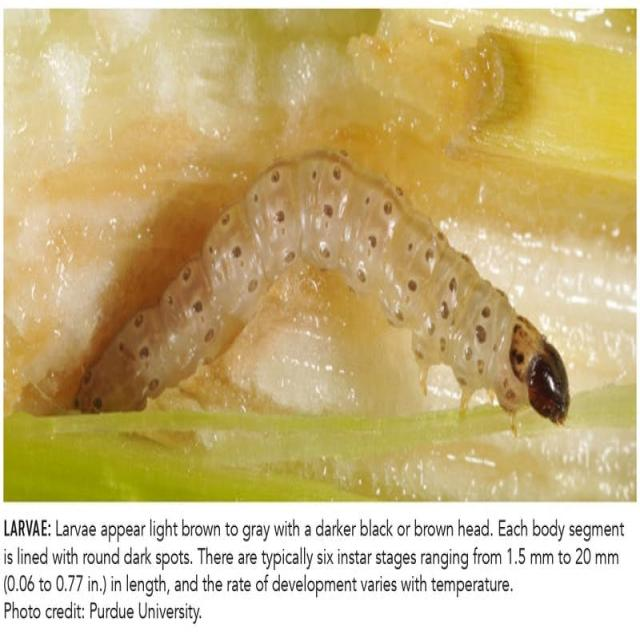cornborer-Larva-: (57, 136, 573, 454)
